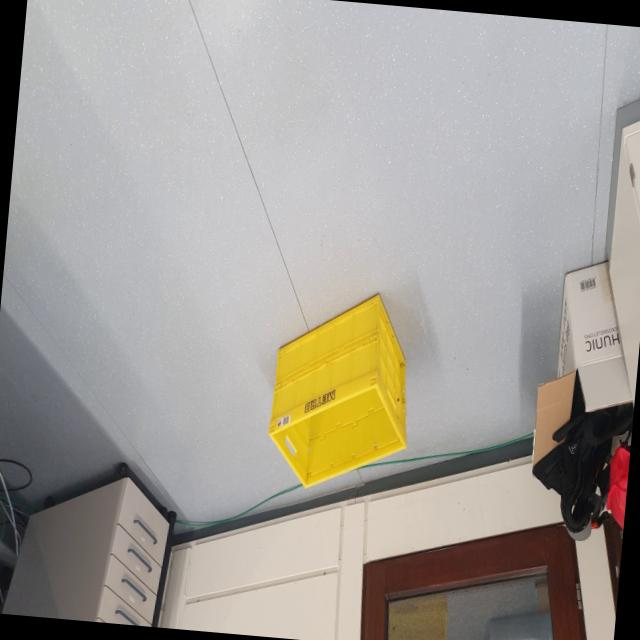box: (260, 264, 423, 501)
